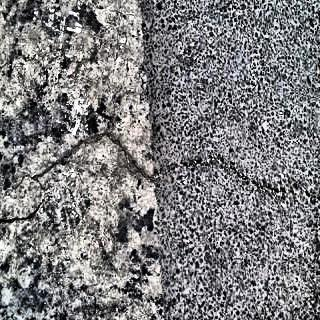alligator-crack: (170, 146, 318, 212), (26, 134, 170, 193), (0, 183, 56, 245)
